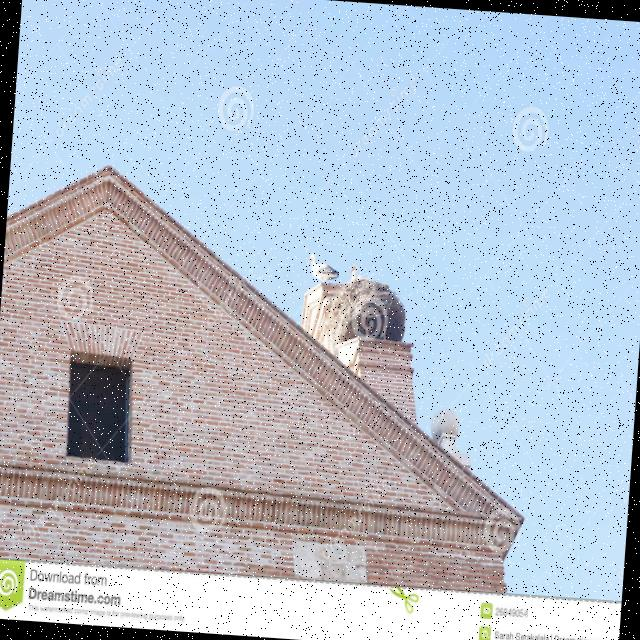bird: (314, 272, 410, 361), (303, 252, 341, 286), (346, 262, 359, 284)
